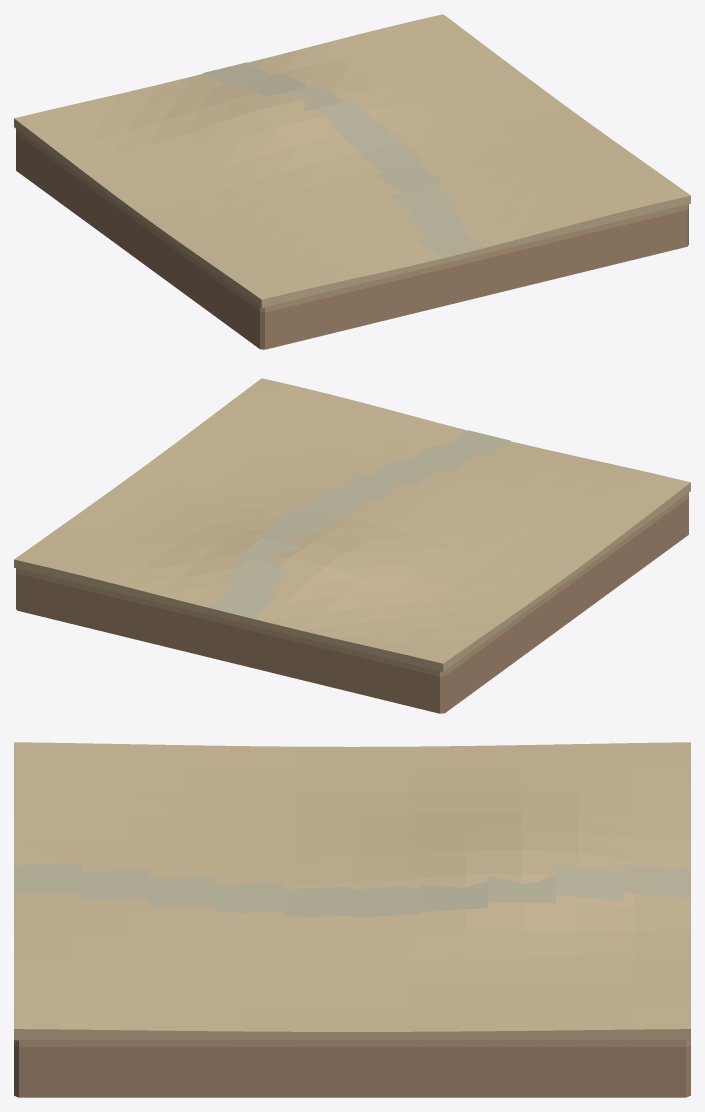
3 views of the same model, one above another, from view 1: azimuth 30°, elevation 25°; view 2: azimuth 150°, elevation 25°; view 3: azimuth 270°, elevation 25° (orthographic). The views are drawn at different scales.
Parts seen in each view (by area): view 1: B09; view 2: B09; view 3: B09.
Boxes of the visible parts, box(x1,y1,x2,y2) form: B09: box(14, 14, 690, 349); B09: box(14, 378, 690, 713); B09: box(14, 742, 690, 1097).
Bounding box in the file's own units: 8 × 1.07 × 8.
